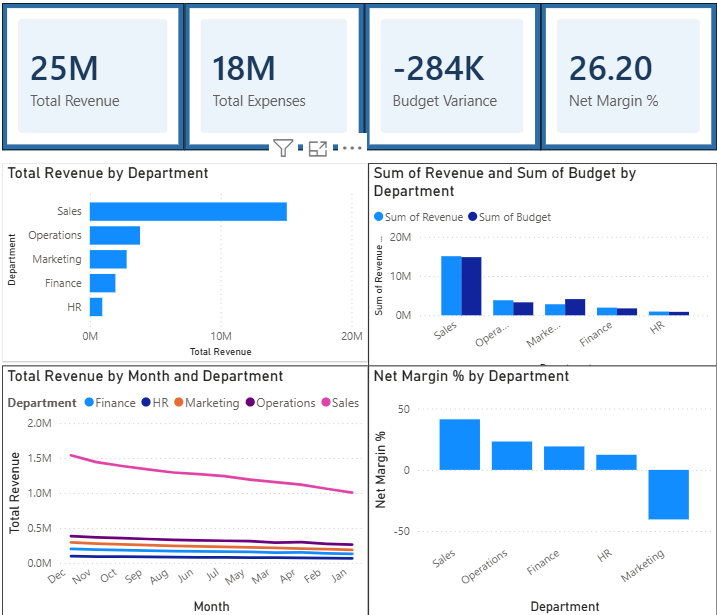

What the dashboard file says about the page in this screenshot:
{"tool":"powerbi","page":{"name":"Page 1","canvas":[1280,720],"ordinal":4},"visuals":[{"type":"cardVisual","fields":{"Data":["financial_data.Total Expenses"]},"box":[354,43.9,197.6,161.9],"z":0},{"type":"cardVisual","fields":{"Data":["financial_data.Total Revenue"]},"box":[153.7,43.9,200.3,161.9],"z":1000},{"type":"cardVisual","fields":{"Data":["financial_data.Budget Variance"]},"box":[551.6,43.9,193.5,161.9],"z":2000},{"type":"cardVisual","fields":{"Data":["financial_data.Net Margin %"]},"box":[745.1,43.9,193.5,161.9],"z":3000},{"type":"clusteredBarChart","fields":{"Category":["financial_data.Department"],"Y":["financial_data.Total Revenue"]},"box":[153.7,219.6,402.1,219.6],"z":3001},{"type":"clusteredColumnChart","fields":{"Category":["financial_data.Department"],"Y":["Sum(financial_data.Revenue)","Sum(financial_data.Budget)"]},"box":[555.7,219.6,382.8,237.4],"z":3002},{"type":"lineChart","fields":{"Category":["financial_data.Month"],"Y":["financial_data.Total Revenue"],"Series":["financial_data.Department"]},"box":[153.7,441.9,402.1,278.6],"z":3003},{"type":"clusteredColumnChart","fields":{"Category":["financial_data.Department"],"Y":["financial_data.Net Margin %"]},"box":[555.7,441.9,382.8,278.6],"z":3004}]}

Visuals, with their boxes on the page's 1280x720 design canvas (x1, y1, x2, y2). These are canvas units, not pixel positions in the 717x615 screenshot, which may show the page scaled, cropped or inside an application window:
cardVisual - financial_data.Total Expenses: [x1=354, y1=44, x2=552, y2=206]
cardVisual - financial_data.Total Revenue: [x1=154, y1=44, x2=354, y2=206]
cardVisual - financial_data.Budget Variance: [x1=552, y1=44, x2=745, y2=206]
cardVisual - financial_data.Net Margin %: [x1=745, y1=44, x2=939, y2=206]
clusteredBarChart - financial_data.Department x financial_data.Total Revenue: [x1=154, y1=220, x2=556, y2=439]
clusteredColumnChart - financial_data.Department x Sum(financial_data.Revenue): [x1=556, y1=220, x2=938, y2=457]
lineChart - financial_data.Month x financial_data.Total Revenue: [x1=154, y1=442, x2=556, y2=720]
clusteredColumnChart - financial_data.Department x financial_data.Net Margin %: [x1=556, y1=442, x2=938, y2=720]
